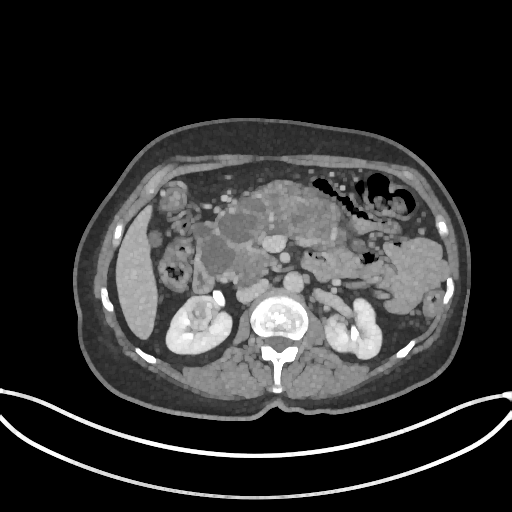Lesion: (186, 295, 222, 336)
